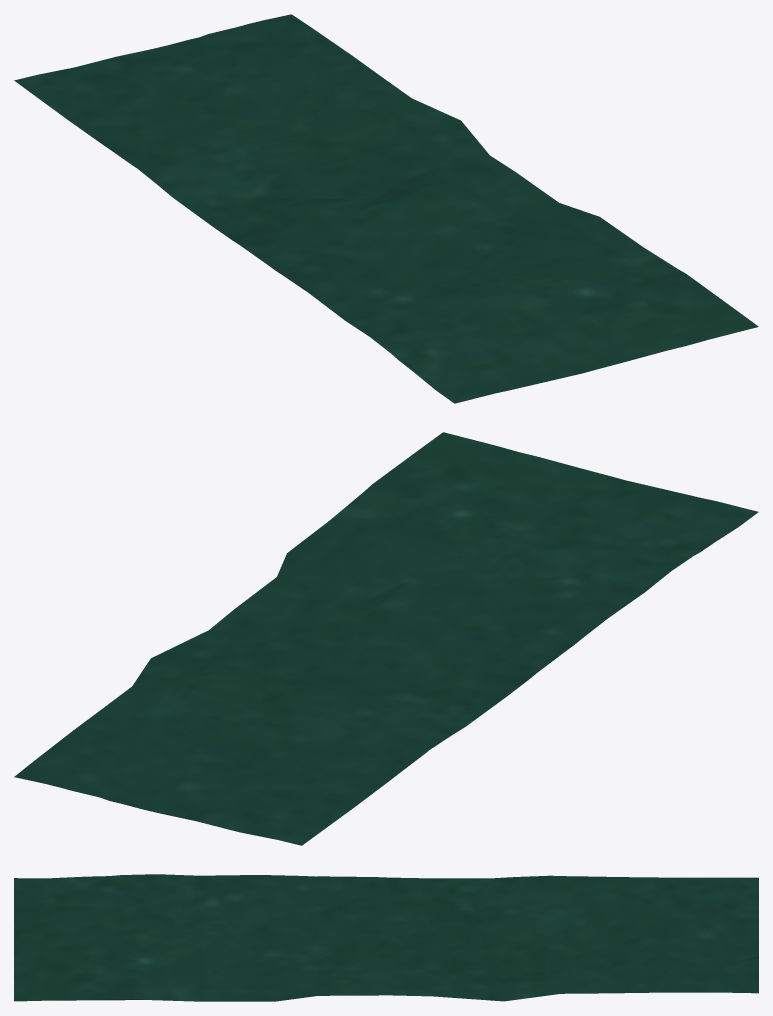
3 views of the same model, one above another, from view 1: azimuth 30°, elevation 25°; view 2: azimuth 150°, elevation 25°; view 3: azimuth 270°, elevation 25° (orthographic). The views are drawn at different scales.
Bounding box in the file's own units: 20.82 × 0.4752 × 52.22.
Materials: 1 (1 with a texture image).
